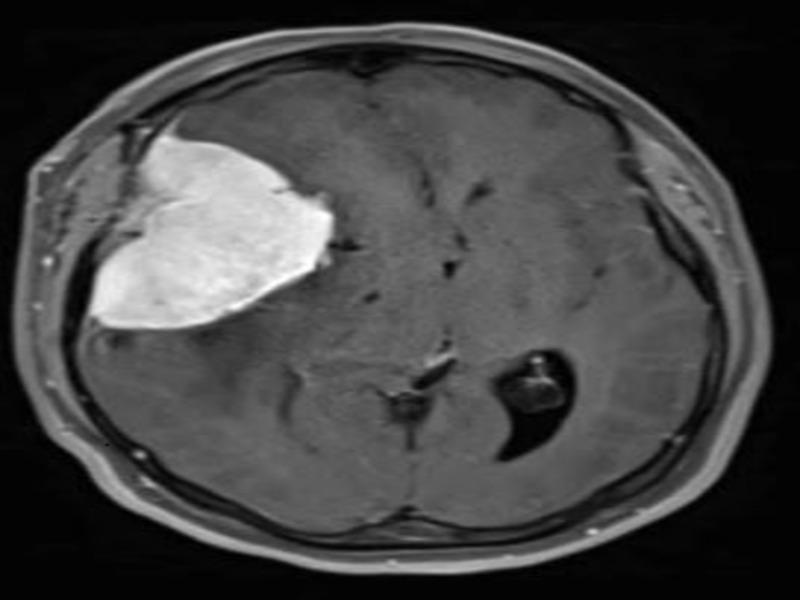tumor: (82, 133, 340, 335)
